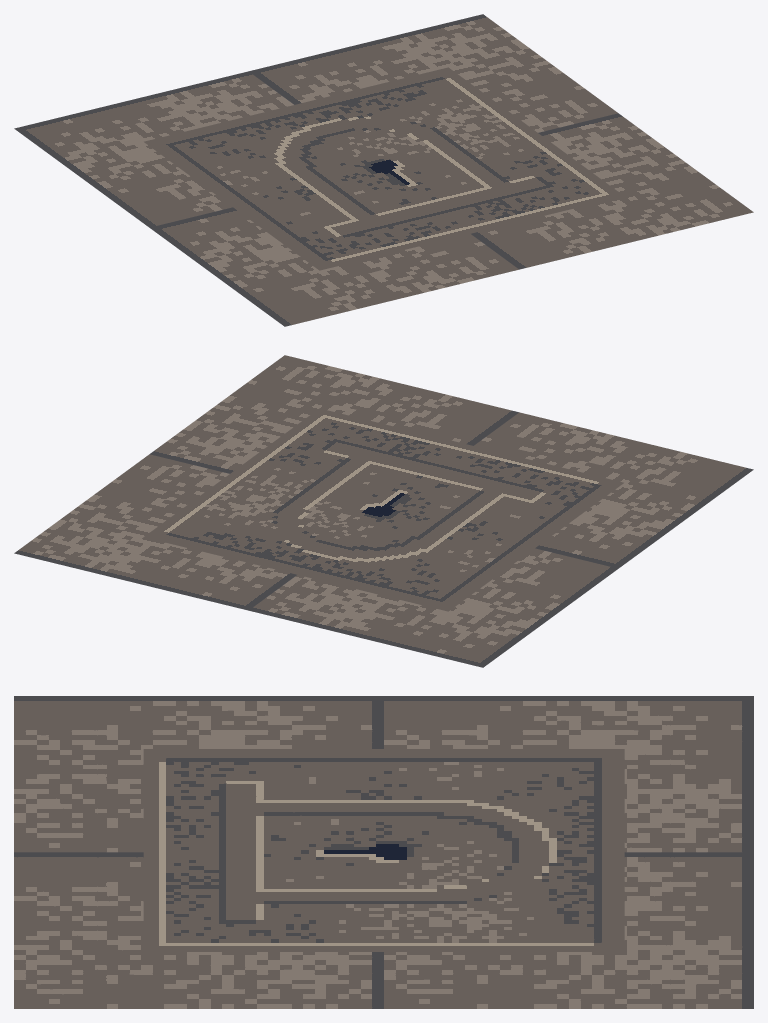
The model's file is tmpl.floor__single.glb.
3 views of the same model, one above another, from view 1: azimuth 30°, elevation 25°; view 2: azimuth 150°, elevation 25°; view 3: azimuth 270°, elevation 25° (orthographic). The views are drawn at different scales.
Parts seen in each view (by area): view 1: kit_shell_floor, kit_card_medallion; view 2: kit_shell_floor, kit_card_medallion; view 3: kit_shell_floor, kit_card_medallion.
Part boxes in pixels (x1,y1,x2,y2): kit_shell_floor: [14, 14, 753, 326]; kit_card_medallion: [144, 67, 623, 270]; kit_shell_floor: [14, 355, 753, 667]; kit_card_medallion: [144, 408, 623, 611]; kit_shell_floor: [14, 696, 753, 1008]; kit_card_medallion: [143, 749, 624, 951].
Size of the model in its own units: 4 by 0.012 by 4.
2 materials, 2 textured.
